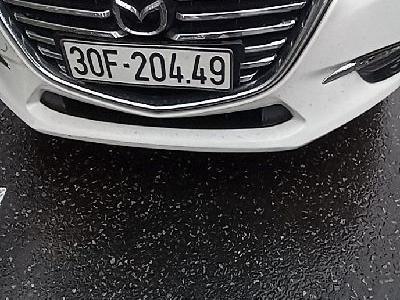lisence: (57, 36, 235, 95)
